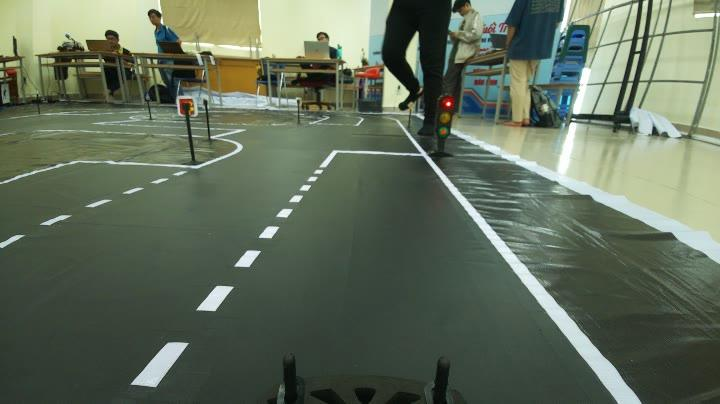trafficlight: (423, 91, 463, 162)
